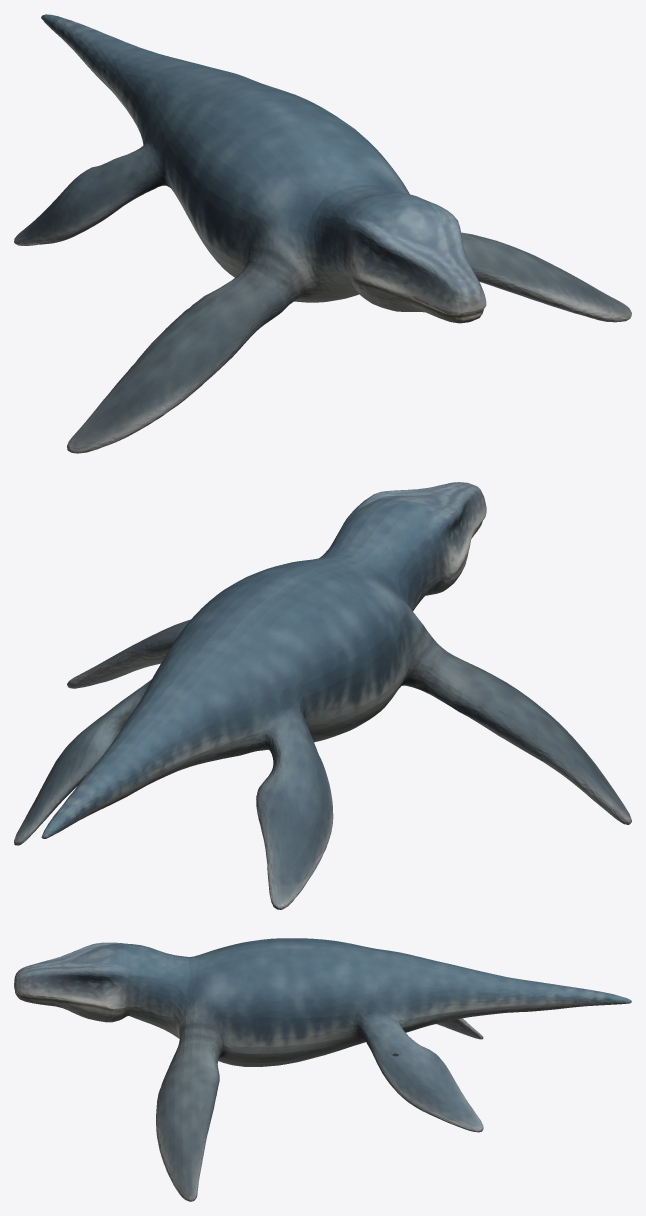
3 views of the same model, one above another, from view 1: azimuth 30°, elevation 25°; view 2: azimuth 150°, elevation 25°; view 3: azimuth 270°, elevation 25° (orthographic). The views are drawn at different scales.
Visible parts, largest first — view 1: world; view 2: world; view 3: world.
Part boxes in pixels (<box>): world: <box>14,14,631,453</box>; world: <box>14,482,631,909</box>; world: <box>14,938,631,1201</box>.
Bounding box in the file's own units: 0.755 × 0.2831 × 1.
1 material, 1 textured.
